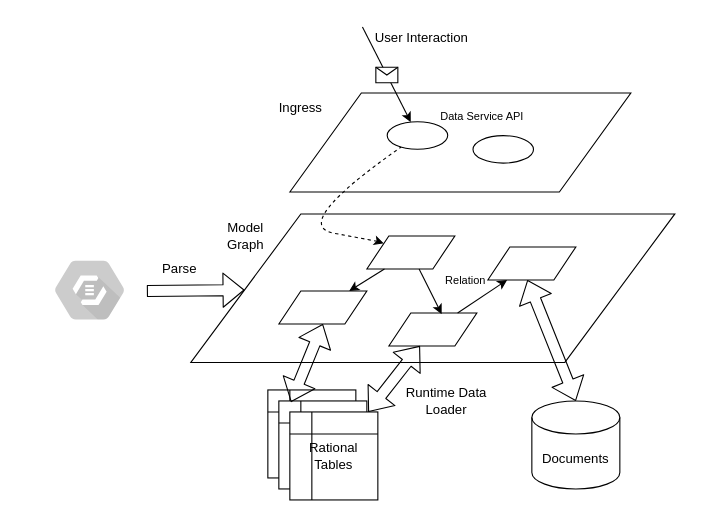
The diagram is 705 pixels wide and 519 high, and some of its shapes have lost their labels. The box of each missing label's shape, as (x1, y1, x2, y2) in pixels:
Component: (366, 235, 455, 269)
Domain Model Definition: (36, 246, 142, 333)
